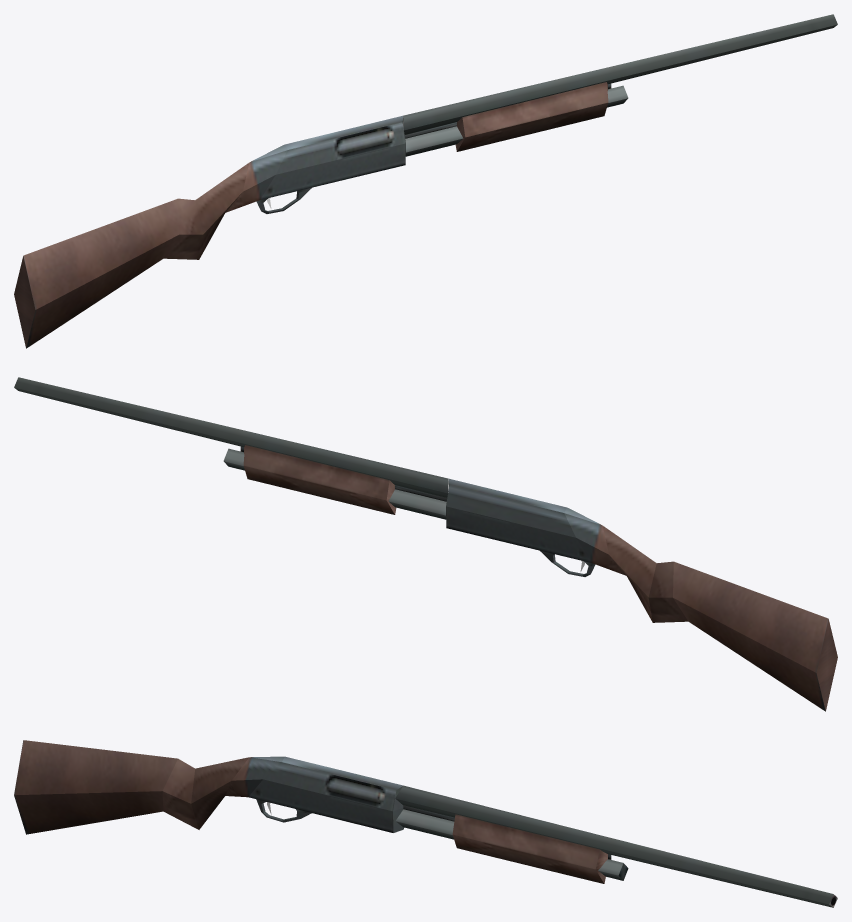
The model's file is pump.glb.
3 renders of one model, top to bottom at view 1: azimuth 30°, elevation 25°; view 2: azimuth 150°, elevation 25°; view 3: azimuth 330°, elevation 25°, orthographic.
Parts seen in each view (by area): view 1: PABody&Barrel.001, Pump.002; view 2: PABody&Barrel.001, Pump.002; view 3: PABody&Barrel.001, Pump.002.
Part boxes in pixels (box(x1,y1,x2,y2)): PABody&Barrel.001: box(14, 14, 837, 348); Pump.002: box(455, 82, 608, 151); PABody&Barrel.001: box(14, 377, 837, 711); Pump.002: box(243, 445, 396, 514); PABody&Barrel.001: box(14, 740, 837, 907); Pump.002: box(452, 814, 607, 883).
Bounding box in the file's own units: 4.54 × 0.7559 × 0.2086.
3 materials, 2 textured.
